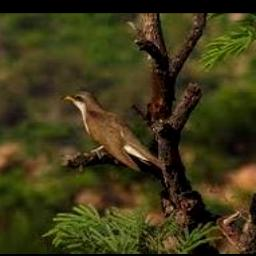Cuckoo: (64, 89, 165, 172)
